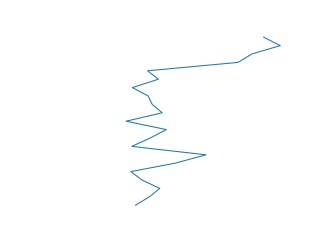crevasseRiverChannelBar: (121, 32, 287, 209)
